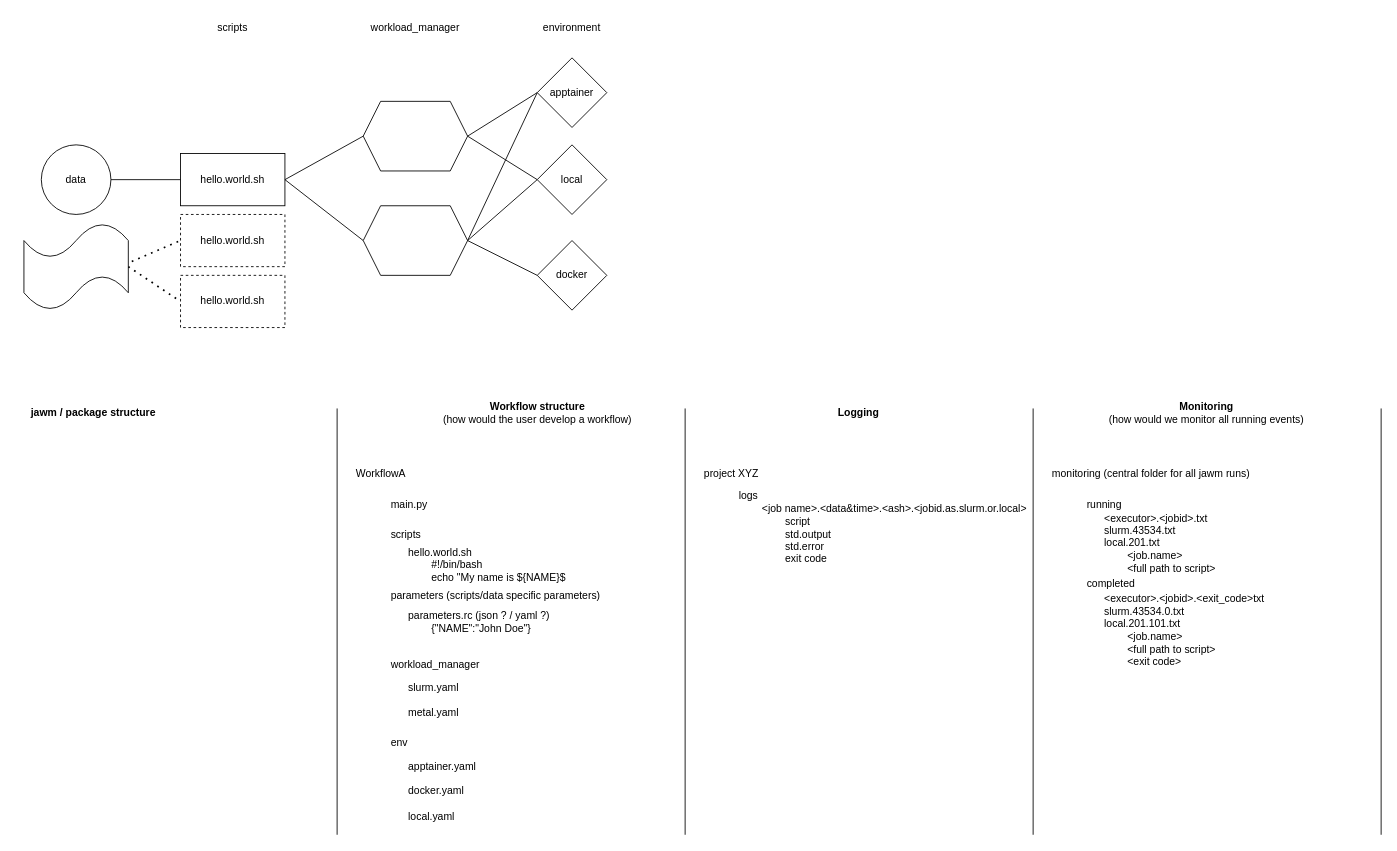
Image size: 1397x851. Some labels were removed from this diagram. Each missing label, with the centre of its shape:
"data pipe" goes at (x=75, y=266).
"metal" goes at (x=415, y=240).
"slurm" goes at (x=415, y=135).
